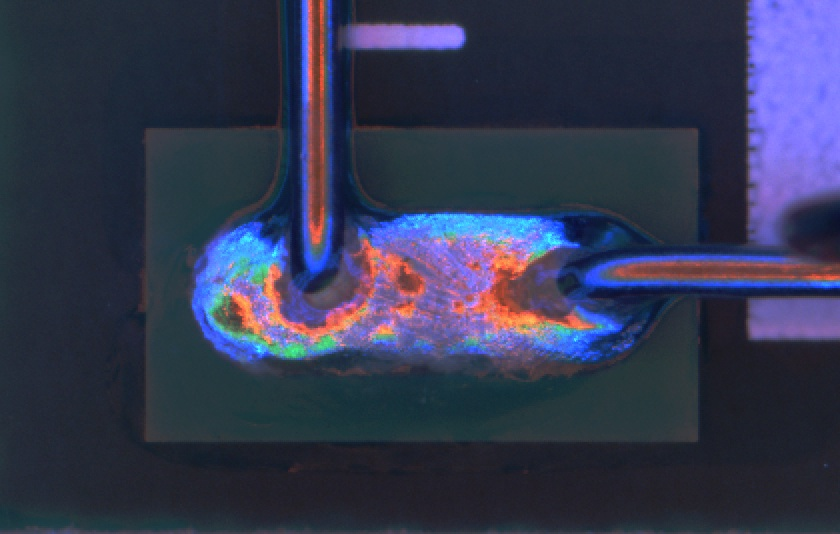spring: (274, 1, 364, 297), (558, 241, 840, 310)
spring_pin: (191, 202, 663, 364)
